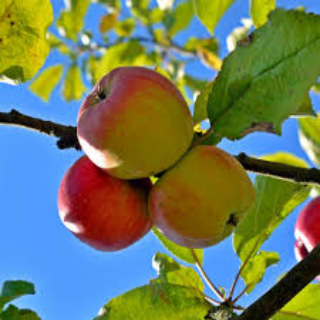tao: (73, 63, 196, 181)
